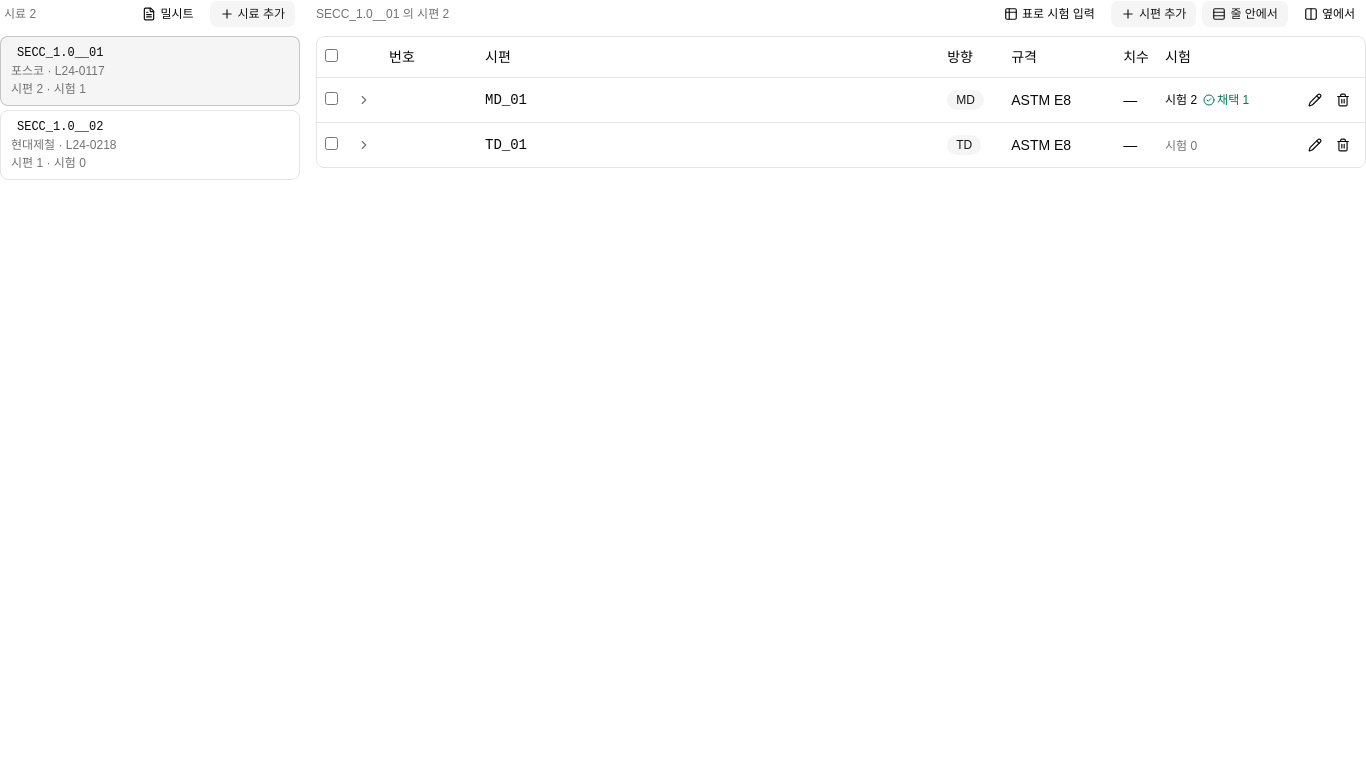
아코디언에 있던 일 › 시험이 남은 시편도 지운다 — 시험 칸을 켜야, 거절은 창 안에 보인다
The image size is (1366, 768).
Check: the text "MD_01" is shown, box top-left (485, 92), bottom-right (527, 108)
Click the button titled "시편 삭제" in the row of "채택": coordinates (1343, 100) top-left (1329, 86), bottom-right (1357, 114)
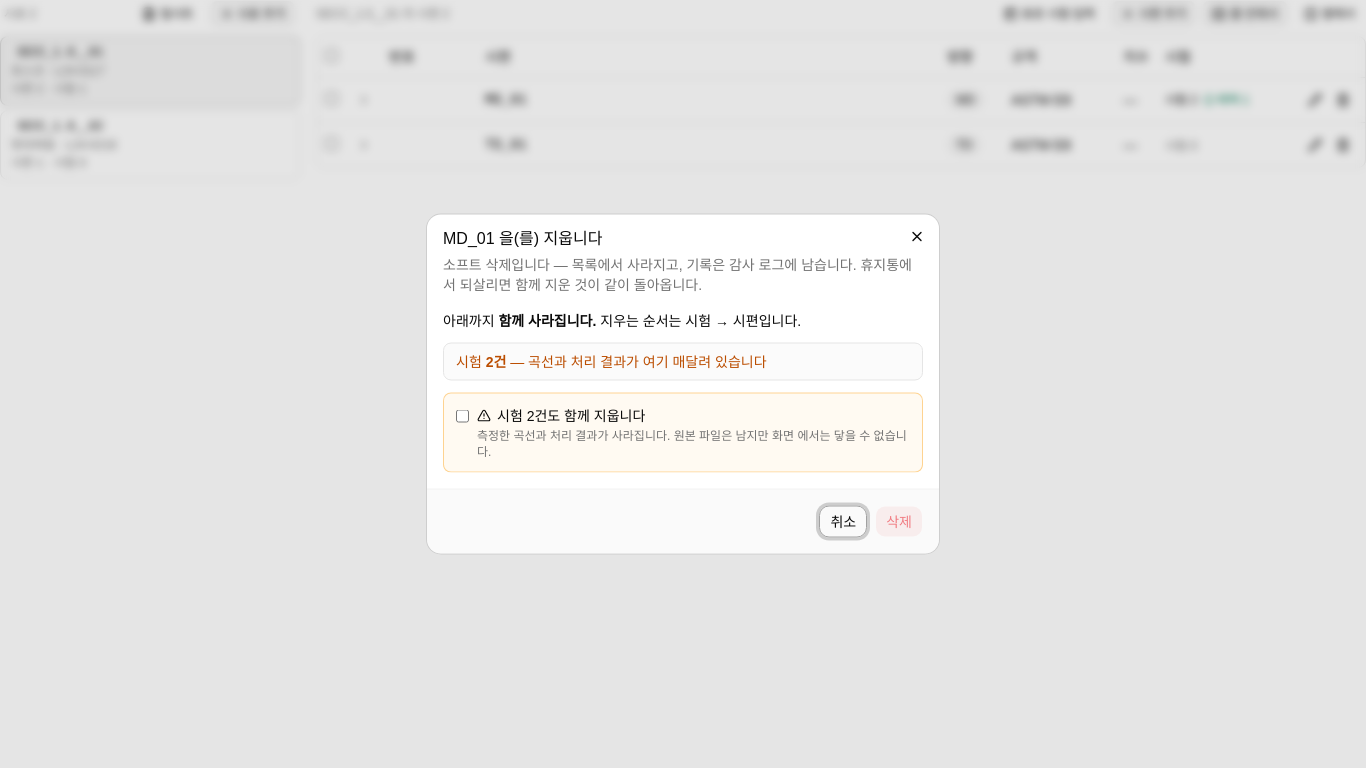
Check: the list item "시험 2건 — 곡선과 처리 결과가 여기 매달려 있습니다" is shown, box top-left (456, 354), bottom-right (766, 370)
Check: the dialog shows "MD_01", box top-left (443, 230), bottom-right (495, 246)
Check: the button "삭제" is disabled, box top-left (875, 506), bottom-right (923, 538)
Click the checkbox: coordinates (462, 416) top-left (456, 410), bottom-right (469, 422)
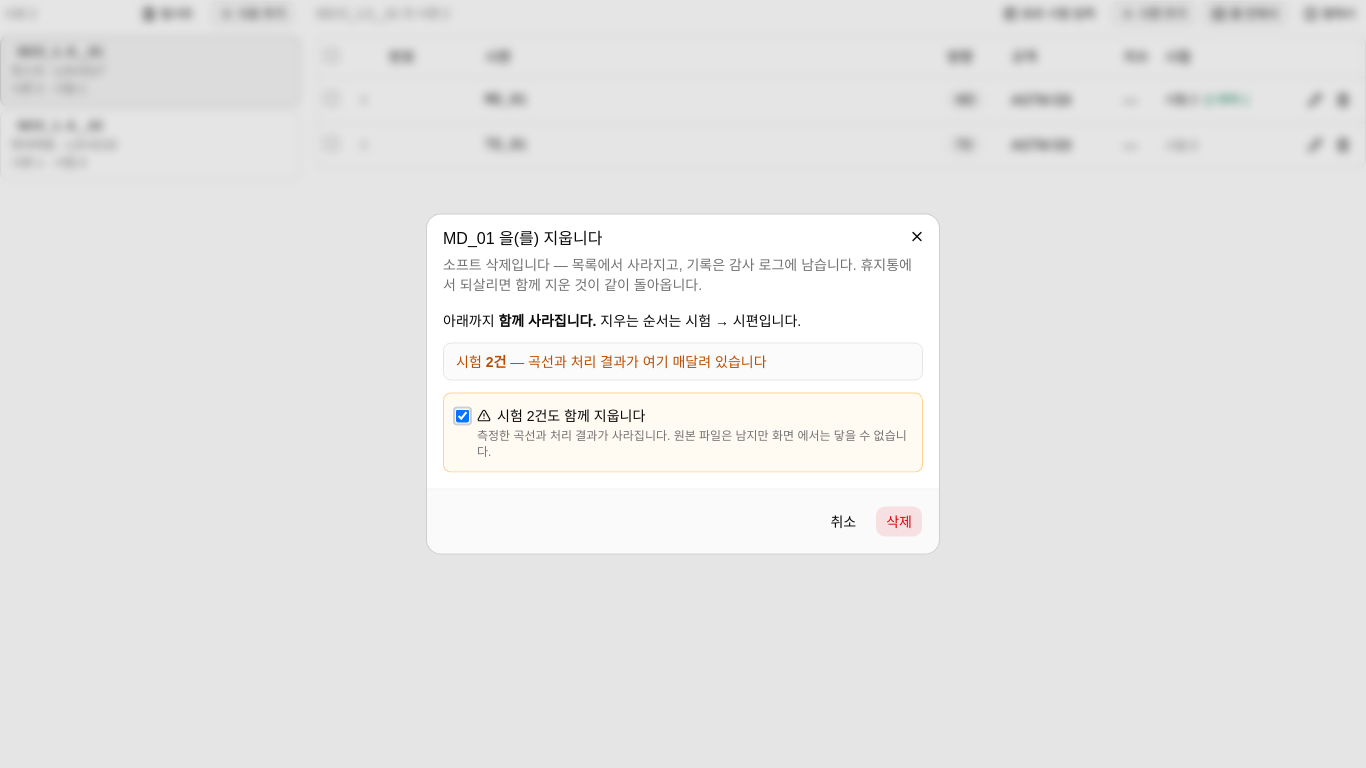
Click the button "삭제": coordinates (899, 522) top-left (875, 506), bottom-right (923, 538)
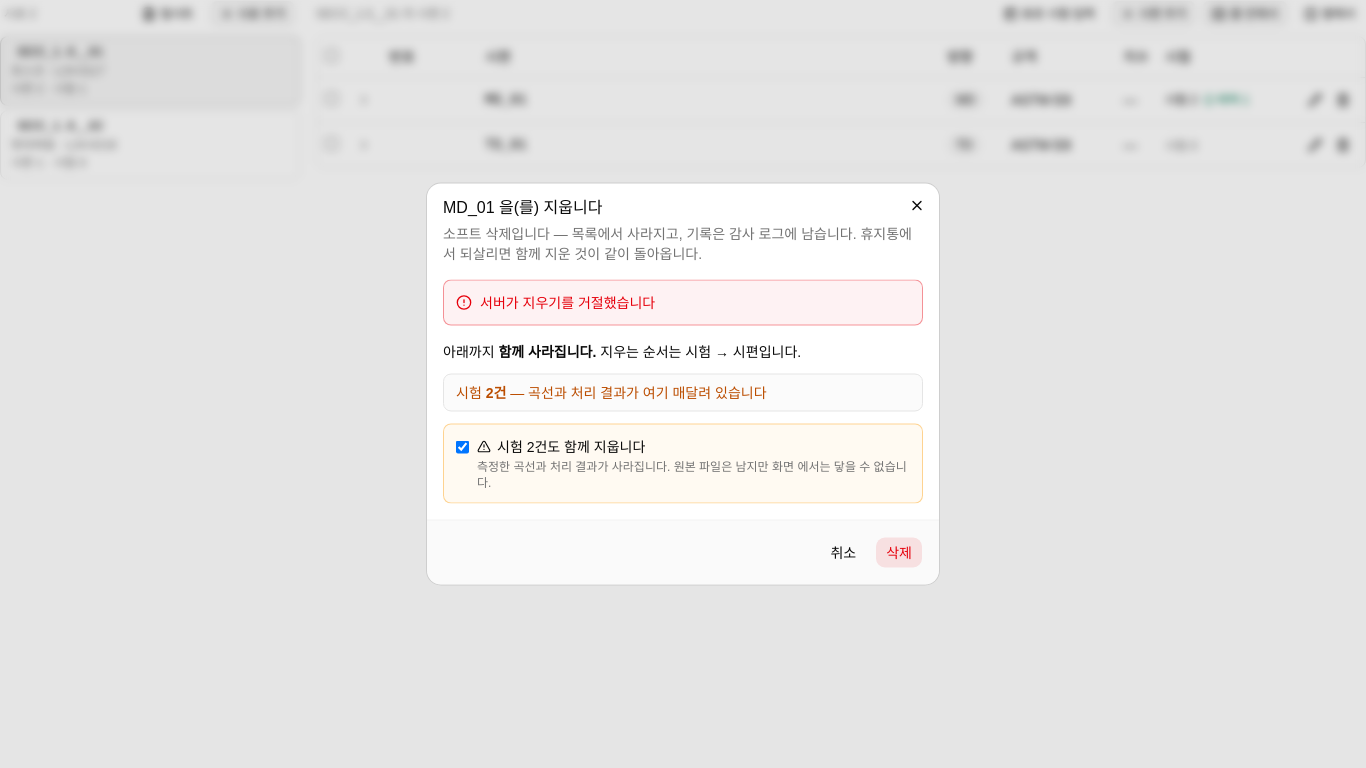
Check: the text "서버가 지우기를 거절했습니다" is shown, box top-left (480, 292), bottom-right (655, 312)
